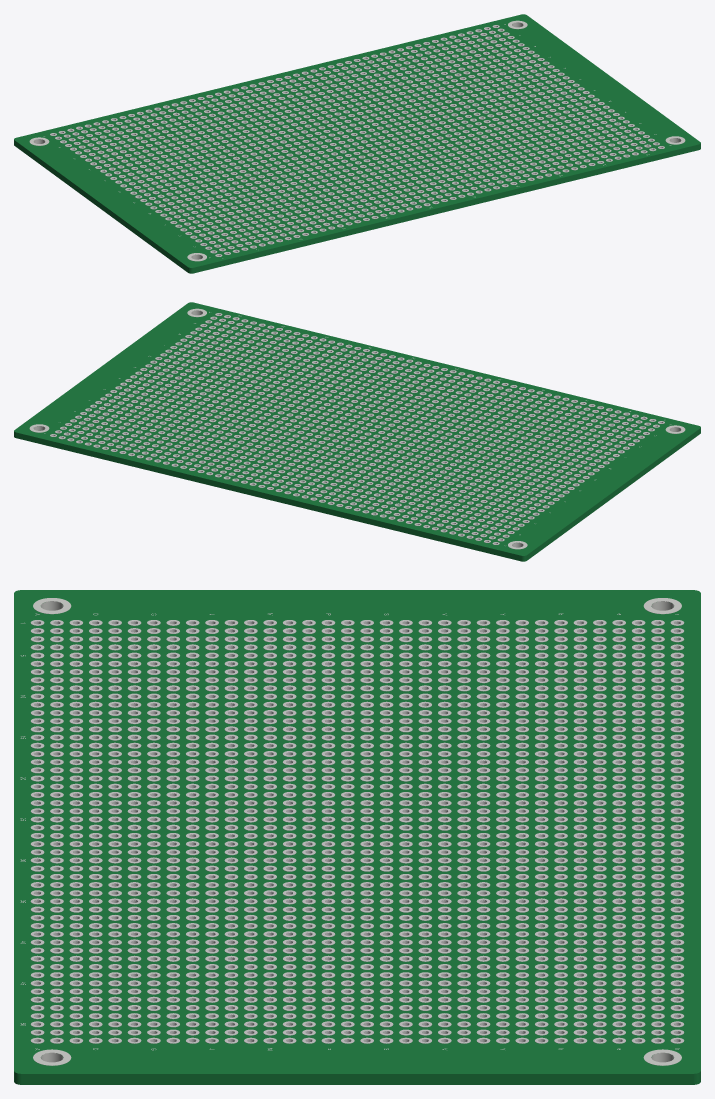
File: perfboard-9x15.glb
3 renders of one model, top to bottom at view 1: azimuth 30°, elevation 25°; view 2: azimuth 150°, elevation 25°; view 3: azimuth 270°, elevation 25°, orthographic. The views are drawn at different scales.
Visible parts, largest first — view 1: pcb, pcb_margin_lo, pcb_margin_hi, pads_row_12, pads_row_15, pads_row_16, pads_row_2, pads_row_3, pads_row_7, pads_row_8, pads_row_18, pads_row_5 (+25 smaller); view 2: pcb, pcb_margin_hi, pcb_margin_lo, pads_row_23, pads_row_20, pads_row_19, pads_row_17, pads_row_27, pads_row_28, pads_row_32, pads_row_33, pads_row_21 (+25 smaller); view 3: pcb, pcb_margin_lo, pcb_margin_hi, pads_row_16, pads_row_19, pads_row_1, pads_row_34, pads_row_5, pads_row_12, pads_row_17, pads_row_18, pads_row_23 (+25 smaller).
Boxes of the visible parts, x1,y1,x2,y2 form: pcb: [16, 16, 698, 271]; pcb_margin_lo: [186, 141, 700, 273]; pcb_margin_hi: [14, 14, 527, 146]; pads_row_12: [160, 105, 609, 216]; pads_row_15: [145, 94, 594, 205]; pads_row_16: [140, 91, 589, 201]; pads_row_2: [210, 142, 659, 253]; pads_row_3: [205, 138, 654, 249]; pads_row_7: [185, 124, 634, 234]; pads_row_8: [180, 120, 629, 231]; pads_row_18: [130, 83, 579, 194]; pads_row_5: [195, 131, 644, 242]; pcb: [16, 304, 698, 559]; pcb_margin_hi: [14, 429, 528, 561]; pcb_margin_lo: [187, 302, 700, 434]; pads_row_23: [105, 393, 554, 504]; pads_row_20: [120, 382, 569, 493]; pads_row_19: [125, 379, 574, 489]; pads_row_17: [135, 371, 584, 482]; pads_row_27: [85, 408, 534, 519]; pads_row_28: [80, 412, 529, 522]; pads_row_32: [60, 426, 509, 537]; pads_row_33: [55, 430, 504, 541]; pads_row_21: [115, 386, 564, 497]; pcb: [28, 590, 686, 1084]; pcb_margin_lo: [14, 590, 27, 1084]; pcb_margin_hi: [687, 590, 700, 1084]; pads_row_16: [321, 620, 335, 1043]; pads_row_19: [379, 620, 393, 1043]; pads_row_1: [30, 620, 44, 1043]; pads_row_34: [670, 620, 684, 1043]; pads_row_5: [108, 620, 121, 1043]; pads_row_12: [244, 620, 257, 1043]; pads_row_17: [341, 620, 354, 1043]; pads_row_18: [360, 620, 373, 1043]; pads_row_23: [457, 620, 470, 1043].
Bounding box in the file's own units: 0.15 × 0.00168 × 0.09.
